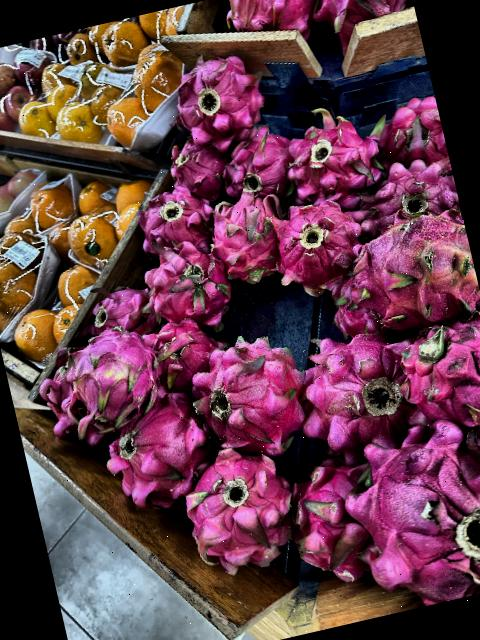buah-naga-belum-matang: (346, 211, 480, 338)
buah-naga-matang: (321, 407, 480, 618), (286, 313, 419, 458), (181, 327, 319, 462), (174, 440, 302, 580), (382, 306, 480, 462), (273, 452, 377, 586), (94, 392, 212, 501), (131, 228, 242, 340), (257, 188, 367, 292), (50, 321, 162, 422), (278, 110, 384, 206), (169, 44, 267, 146), (350, 150, 461, 236), (203, 184, 288, 286), (135, 180, 223, 260), (216, 122, 298, 204), (138, 313, 224, 387), (214, 0, 323, 50), (370, 94, 446, 162), (82, 279, 154, 339), (309, 0, 416, 39), (164, 136, 228, 200)
